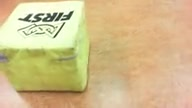cube: (1, 1, 91, 93)
